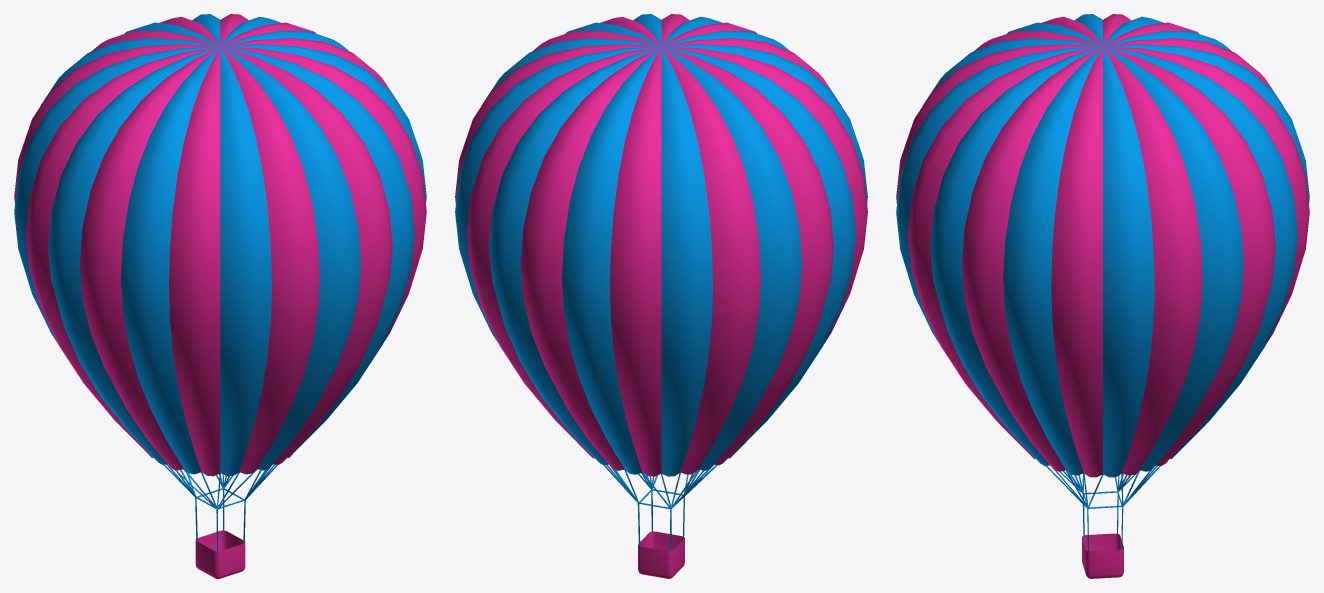
File: balloonCenter.glb
3 views of the same model, side by side, from view 1: azimuth 30°, elevation 25°; view 2: azimuth 150°, elevation 25°; view 3: azimuth 270°, elevation 25° (orthographic).
Visible parts, largest first — view 1: balloonCenter, balloonLeft_basket.001, balloonLeft_net.001; view 2: balloonCenter, balloonLeft_basket.001, balloonLeft_net.001; view 3: balloonCenter, balloonLeft_basket.001, balloonLeft_net.001.
Boxes of the visible parts, bbox=[...] form: balloonCenter: bbox=[14, 14, 426, 476]; balloonLeft_basket.001: bbox=[195, 530, 245, 578]; balloonLeft_net.001: bbox=[164, 464, 277, 551]; balloonCenter: bbox=[455, 14, 867, 476]; balloonLeft_basket.001: bbox=[638, 531, 684, 578]; balloonLeft_net.001: bbox=[604, 465, 717, 551]; balloonCenter: bbox=[896, 14, 1309, 477]; balloonLeft_basket.001: bbox=[1082, 533, 1123, 578]; balloonLeft_net.001: bbox=[1046, 465, 1160, 550].
Bounding box in the file's own units: 3.79 × 5.3 × 3.79.
